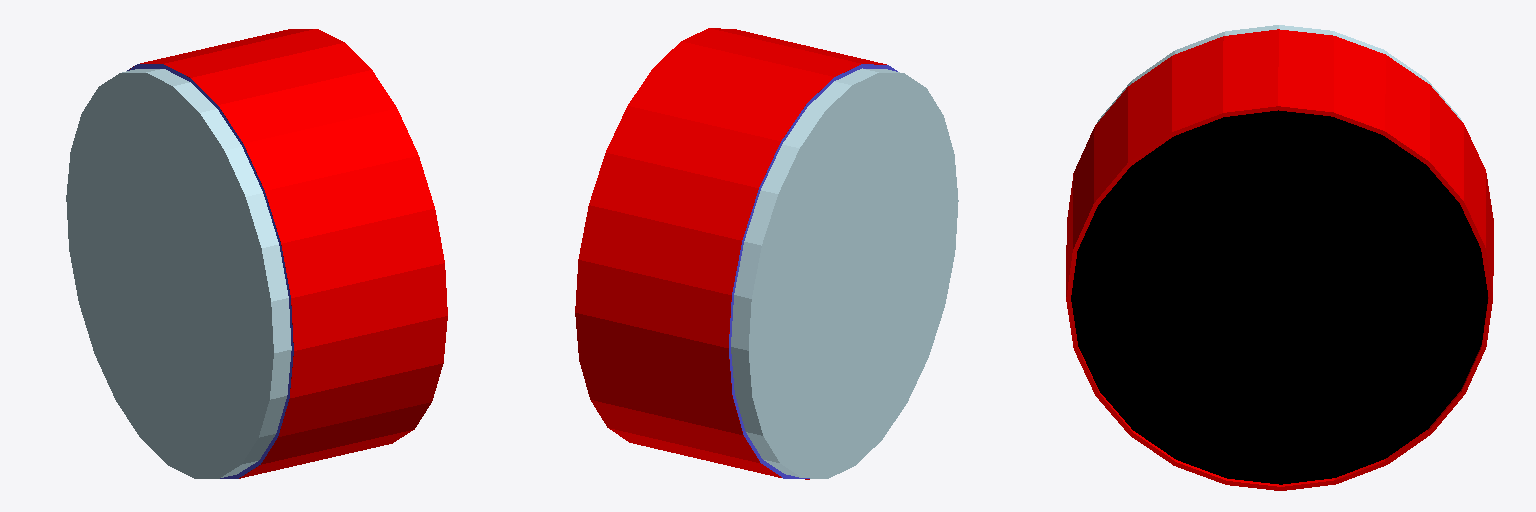
File: light_sensor.obj
The picture shows the model from 3 angles: view 1: azimuth 30°, elevation 25°; view 2: azimuth 150°, elevation 25°; view 3: azimuth 270°, elevation 25°; orthographic projection.
Parts seen in each view (by area): view 1: Mesh1 Group1 Model; view 2: Mesh1 Group1 Model; view 3: Mesh1 Group1 Model.
Boxes of the visible parts, x1=… form: Mesh1 Group1 Model: x1=66, y1=29, x2=447, y2=478; Mesh1 Group1 Model: x1=575, y1=28, x2=958, y2=479; Mesh1 Group1 Model: x1=1066, y1=25, x2=1493, y2=490.
Bounding box in the file's own units: 0.3721 × 0.7871 × 0.7843.